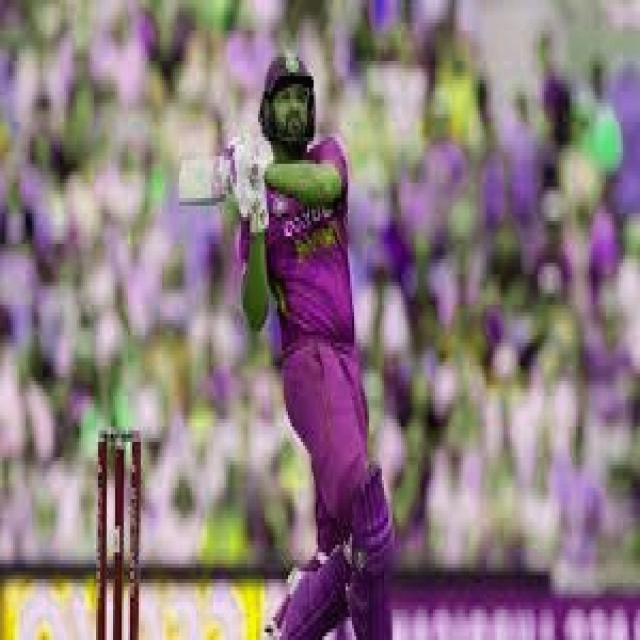toe: (173, 156, 190, 205)
